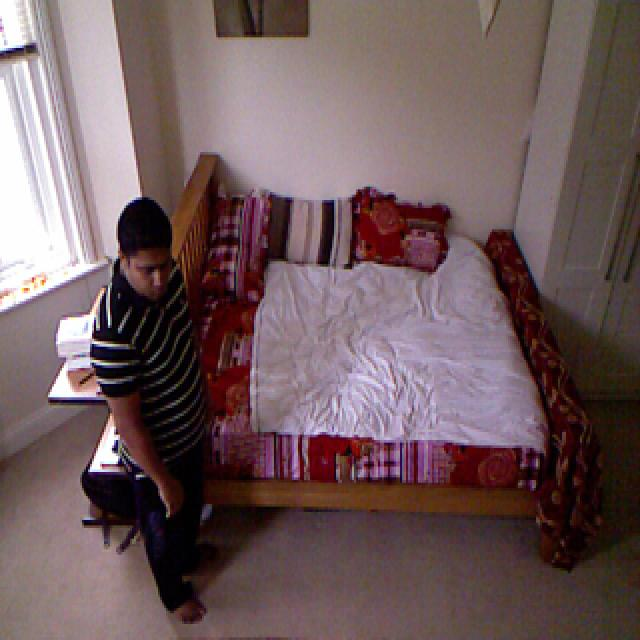standing: (90, 199, 234, 627)
